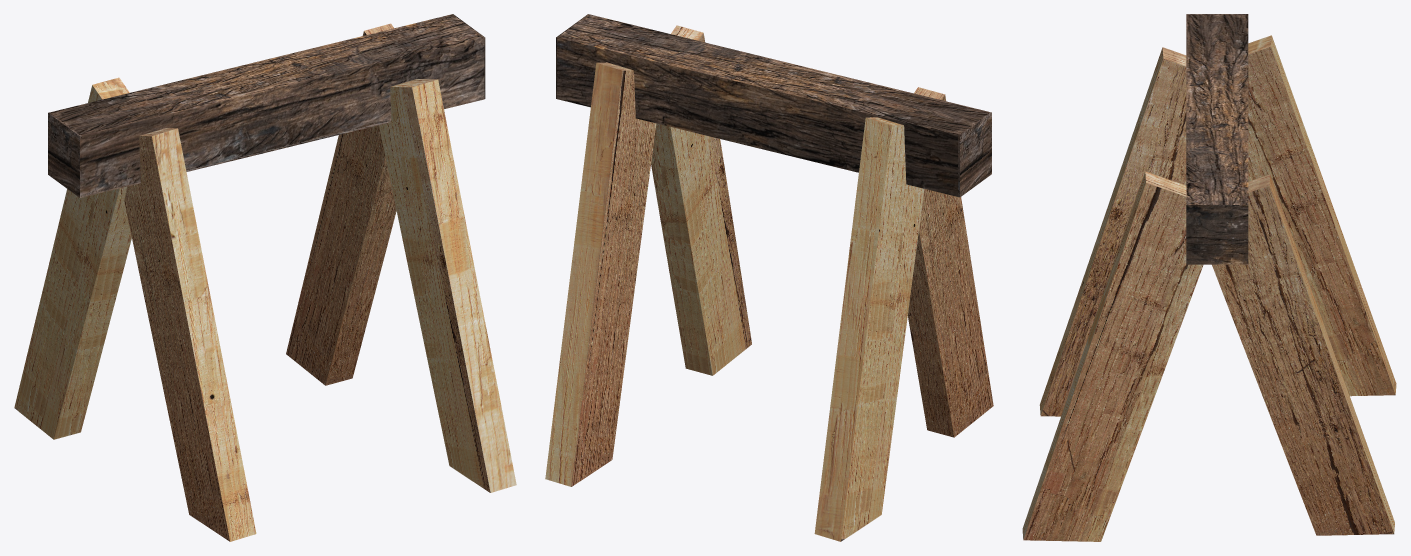
The model's file is cavalete.fbx.
3 renders of one model, left to right at view 1: azimuth 30°, elevation 25°; view 2: azimuth 150°, elevation 25°; view 3: azimuth 270°, elevation 25°, orthographic. The views are drawn at different scales.
Parts seen in each view (by area): view 1: Cavalete.002; view 2: Cavalete.002; view 3: Cavalete.002.
Boxes of the visible parts, <box> form: Cavalete.002: <box>14,14,516,541</box>; Cavalete.002: <box>545,14,993,541</box>; Cavalete.002: <box>1022,14,1396,541</box>.
Bounding box in the file's own units: 189 × 171 × 156.
